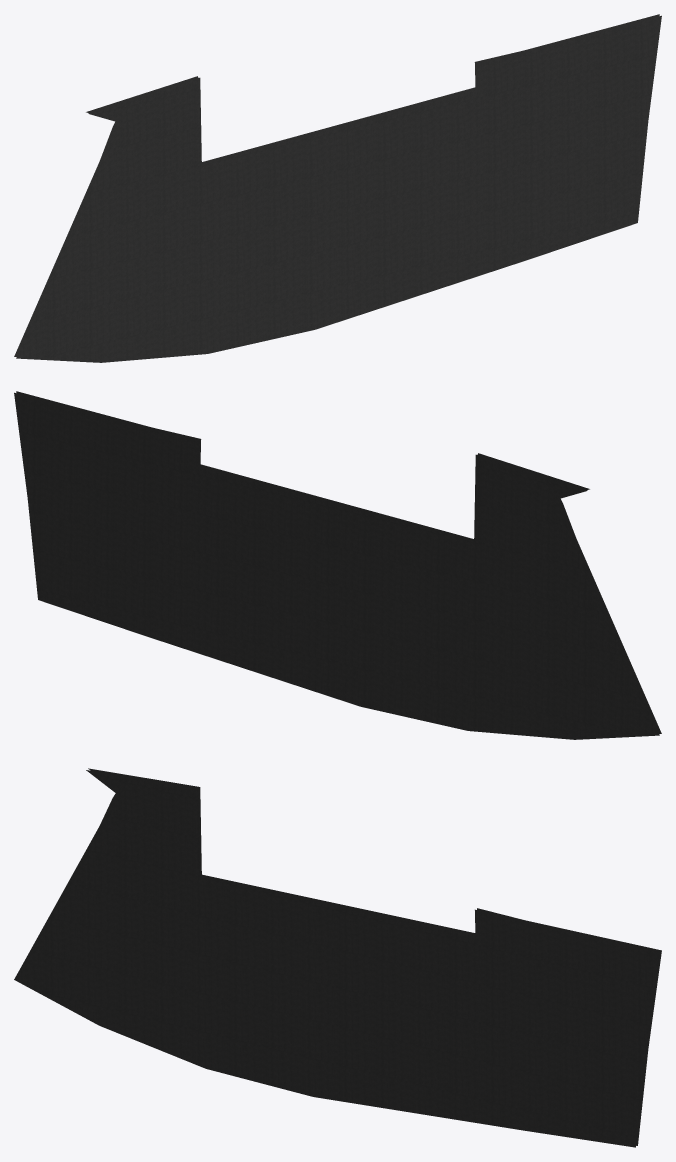
File: floor_4.obj
The picture shows the model from 3 angles, top to bottom: view 1: azimuth 30°, elevation 25°; view 2: azimuth 150°, elevation 25°; view 3: azimuth 330°, elevation 25°; orthographic projection.
Parts seen in each view (by area): view 1: floor_4; view 2: floor_4; view 3: floor_4.
Part boxes in pixels (x1=…): floor_4: x1=14, y1=14, x2=661, y2=362; floor_4: x1=14, y1=391, x2=661, y2=739; floor_4: x1=14, y1=768, x2=661, y2=1147.
Size of the model in its own units: 17.58 by 7.29 by 0.1.
1 material, 1 textured.
